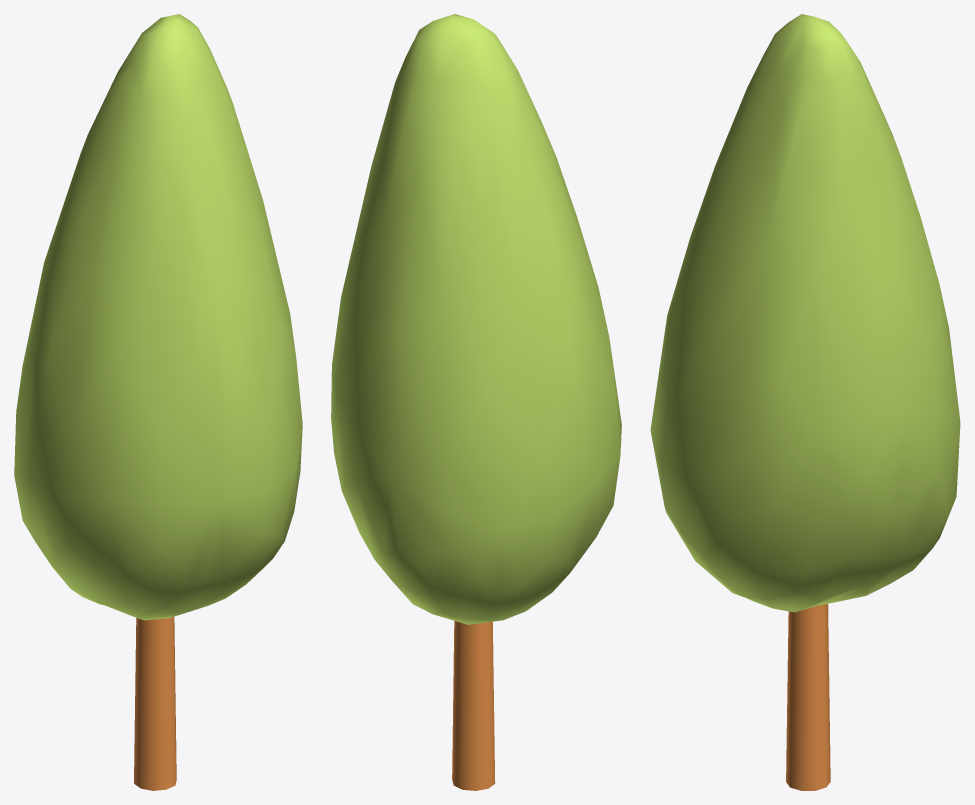
File: BushTree_K.fbx
The picture shows the model from 3 angles, left to right: view 1: azimuth 30°, elevation 25°; view 2: azimuth 150°, elevation 25°; view 3: azimuth 270°, elevation 25°; orthographic projection. The views are drawn at different scales.
Parts seen in each view (by area): view 1: Thuja_Tree_s_02; view 2: Thuja_Tree_s_02; view 3: Thuja_Tree_s_02.
Part boxes in pixels (box(x1,y1,x2,y2)): Thuja_Tree_s_02: box(14, 14, 302, 790); Thuja_Tree_s_02: box(331, 14, 621, 790); Thuja_Tree_s_02: box(650, 14, 960, 790).
Bounding box in the file's own units: 123 × 354 × 129.
